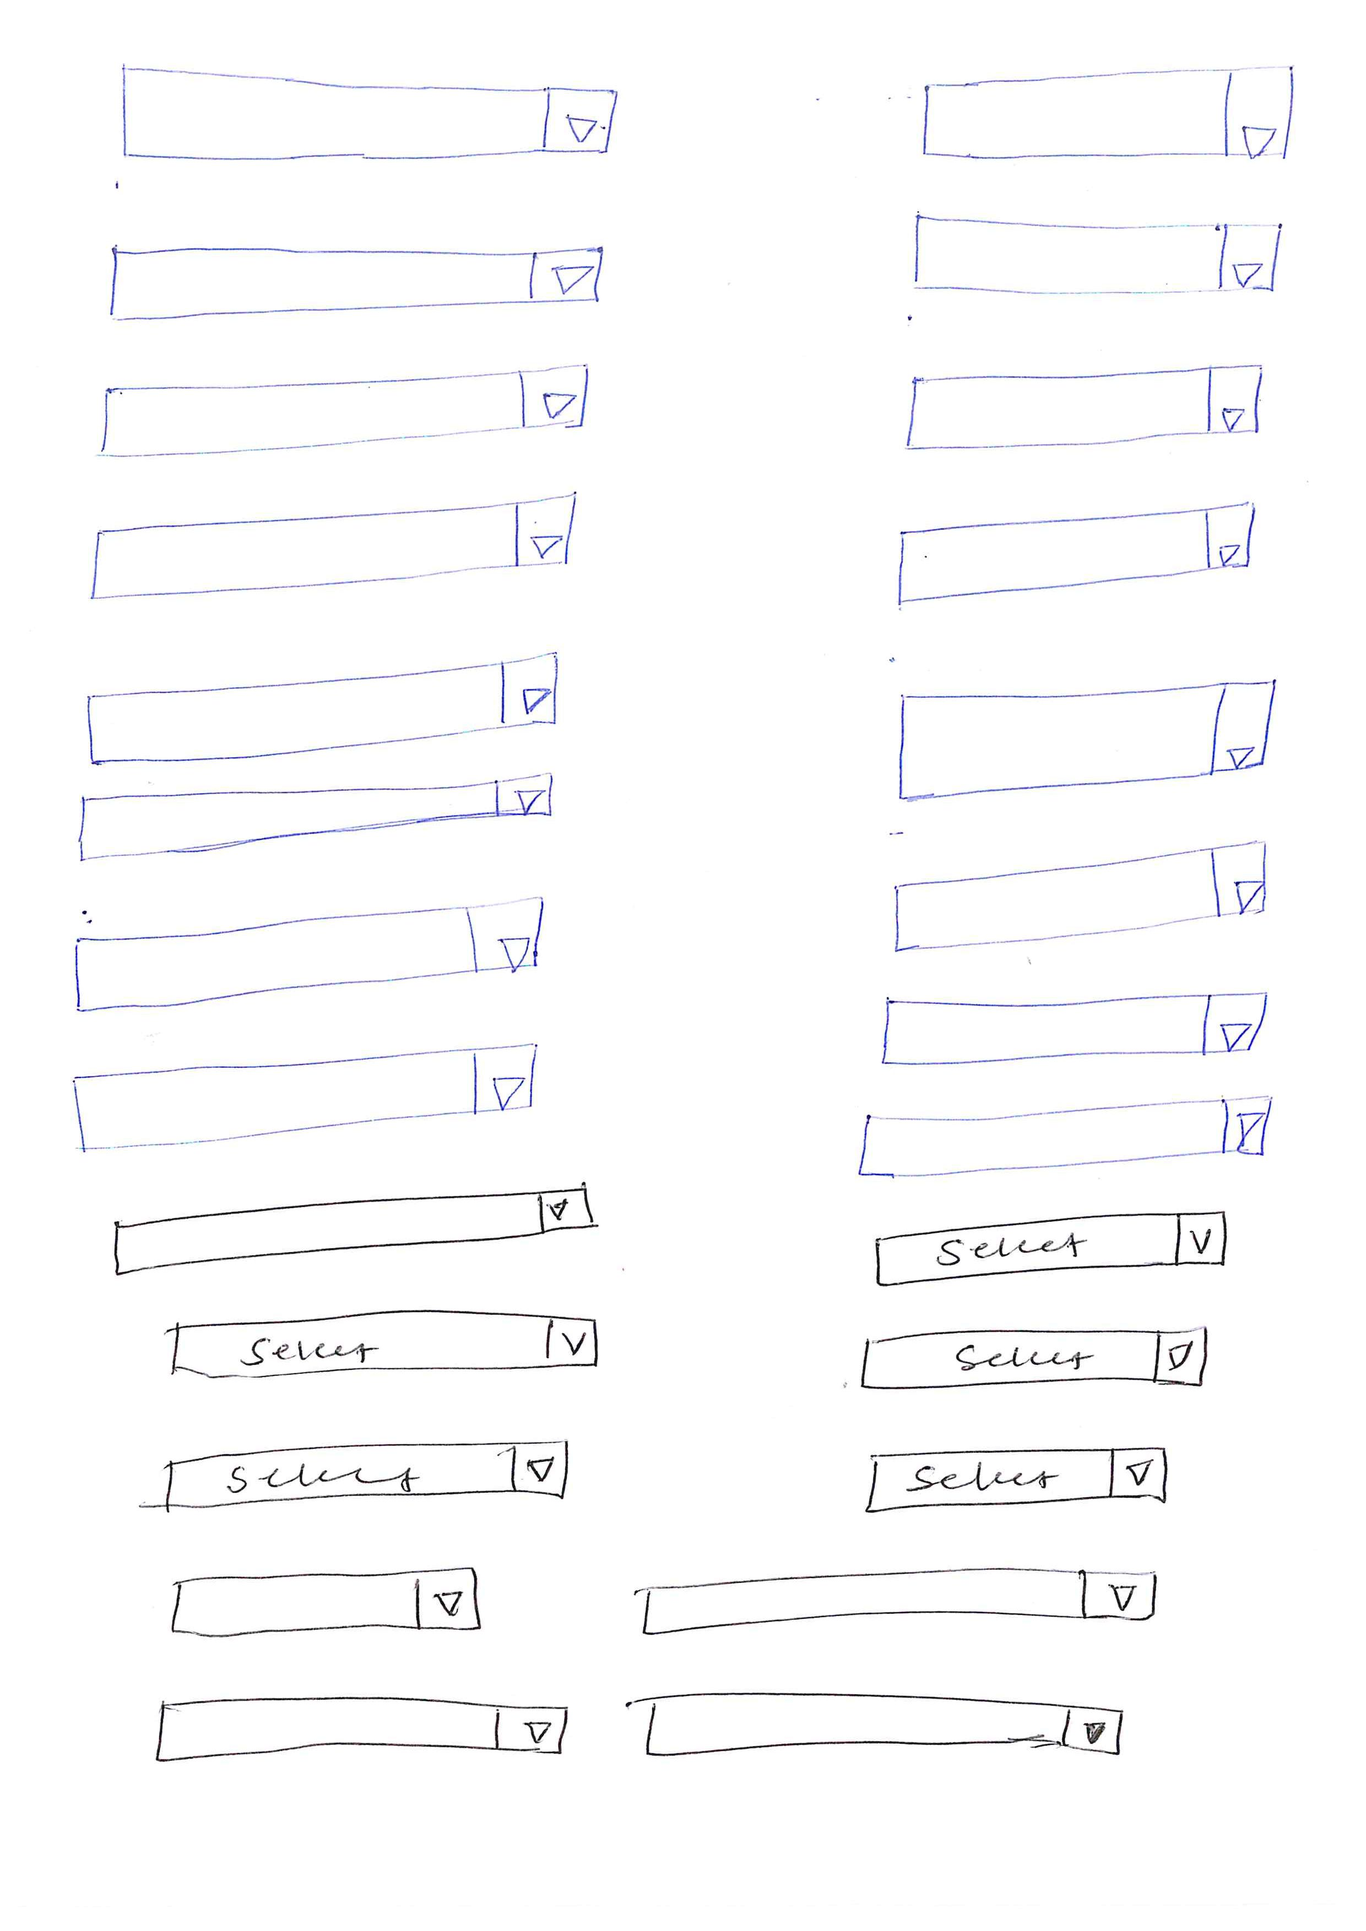Select: (74, 895, 546, 1014), (89, 489, 580, 603), (87, 654, 559, 767), (71, 1041, 538, 1153), (120, 61, 619, 163), (96, 362, 591, 460), (109, 1184, 599, 1277), (78, 770, 556, 863), (893, 838, 1268, 955), (108, 242, 606, 322), (897, 500, 1257, 608), (854, 1093, 1274, 1178), (903, 362, 1265, 452), (169, 1309, 602, 1379), (881, 991, 1270, 1068), (912, 220, 1282, 296), (874, 1211, 1229, 1289), (859, 1326, 1209, 1391)
